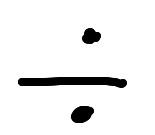div: (17, 27, 127, 123)
